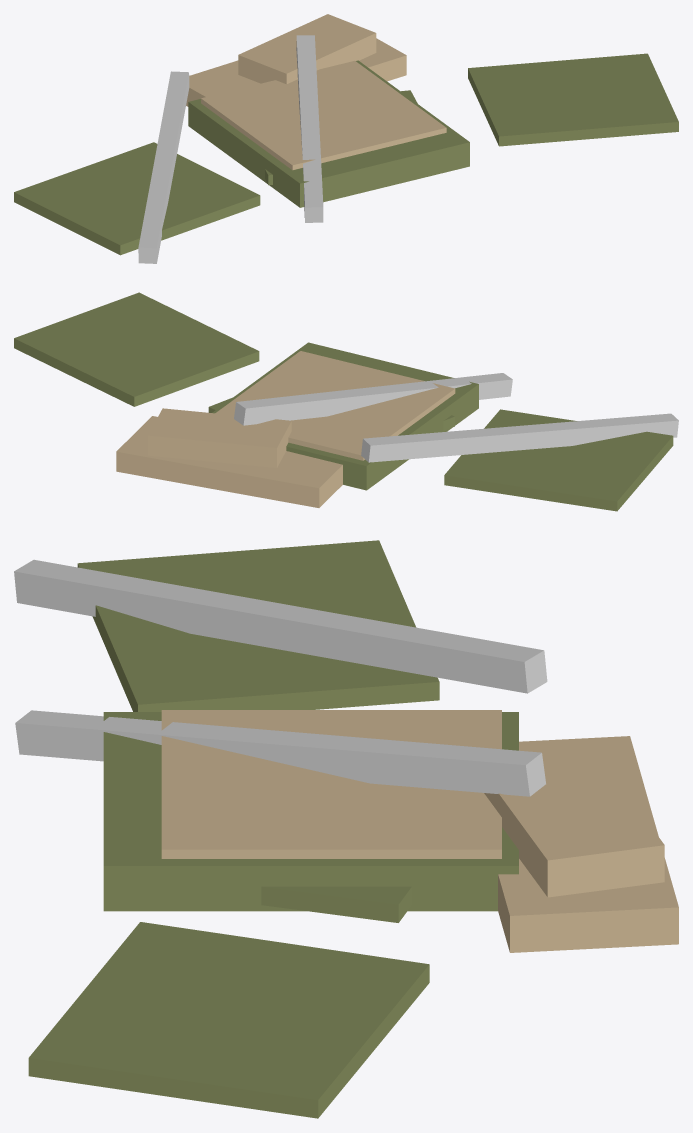
Rendered from SM_HescoCorto1_v2_Escalonado_e3_Brecha_LOD1.fbx.
3 views of the same model, one above another, from view 1: azimuth 30°, elevation 25°; view 2: azimuth 150°, elevation 25°; view 3: azimuth 270°, elevation 25° (orthographic). The views are drawn at different scales.
Visible parts, largest first — view 1: SM_hesco_piezas_v51_LOD1; view 2: SM_hesco_piezas_v51_LOD1; view 3: SM_hesco_piezas_v51_LOD1.
Boxes of the visible parts, x1,y1,x2,y2 form: SM_hesco_piezas_v51_LOD1: [14, 14, 678, 263]; SM_hesco_piezas_v51_LOD1: [14, 292, 678, 511]; SM_hesco_piezas_v51_LOD1: [14, 540, 678, 1118].
Bounding box in the file's own units: 3.89 × 0.351 × 1.95.
